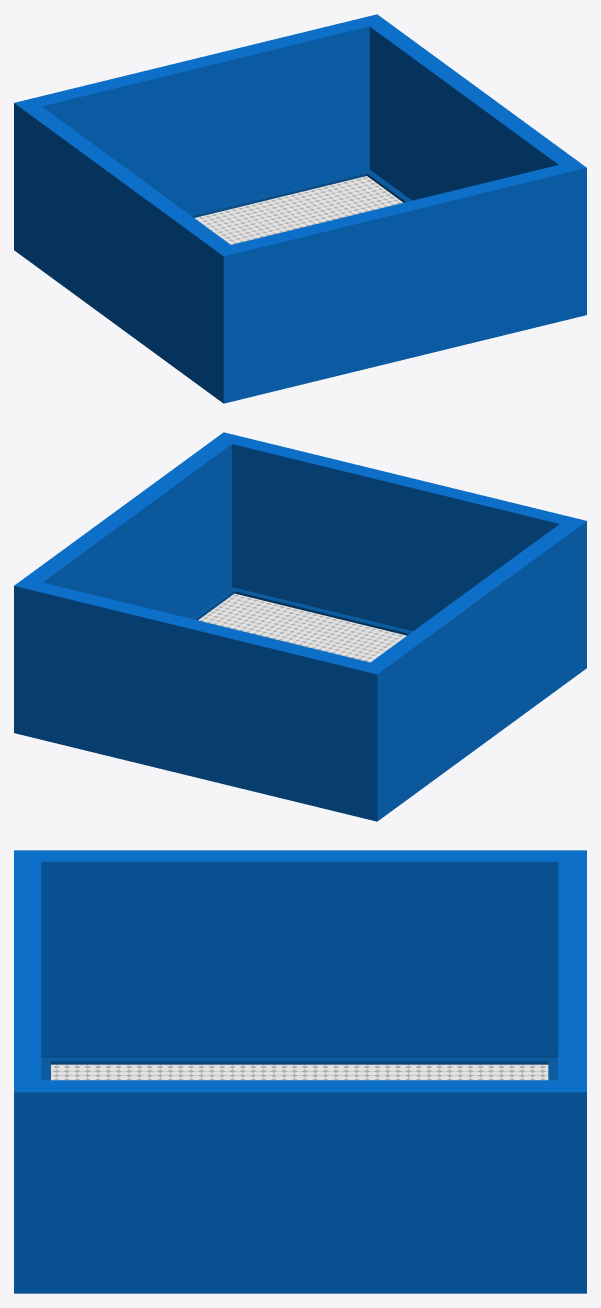
The model's file is Office.glb.
The picture shows the model from 3 angles, top to bottom: view 1: azimuth 30°, elevation 25°; view 2: azimuth 150°, elevation 25°; view 3: azimuth 270°, elevation 25°; orthographic projection. The views are drawn at different scales.
Visible parts, largest first — view 1: Cube; view 2: Cube; view 3: Cube.
Boxes of the visible parts, x1=… form: Cube: x1=14, y1=14, x2=586, y2=403; Cube: x1=14, y1=432, x2=586, y2=821; Cube: x1=14, y1=850, x2=586, y2=1293.
Bounding box in the file's own units: 100 × 38.74 × 100.
Materials: 2 (2 with a texture image).
